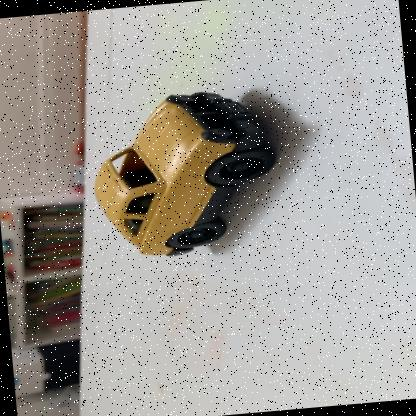yellow mini cooper: (83, 82, 286, 262)
